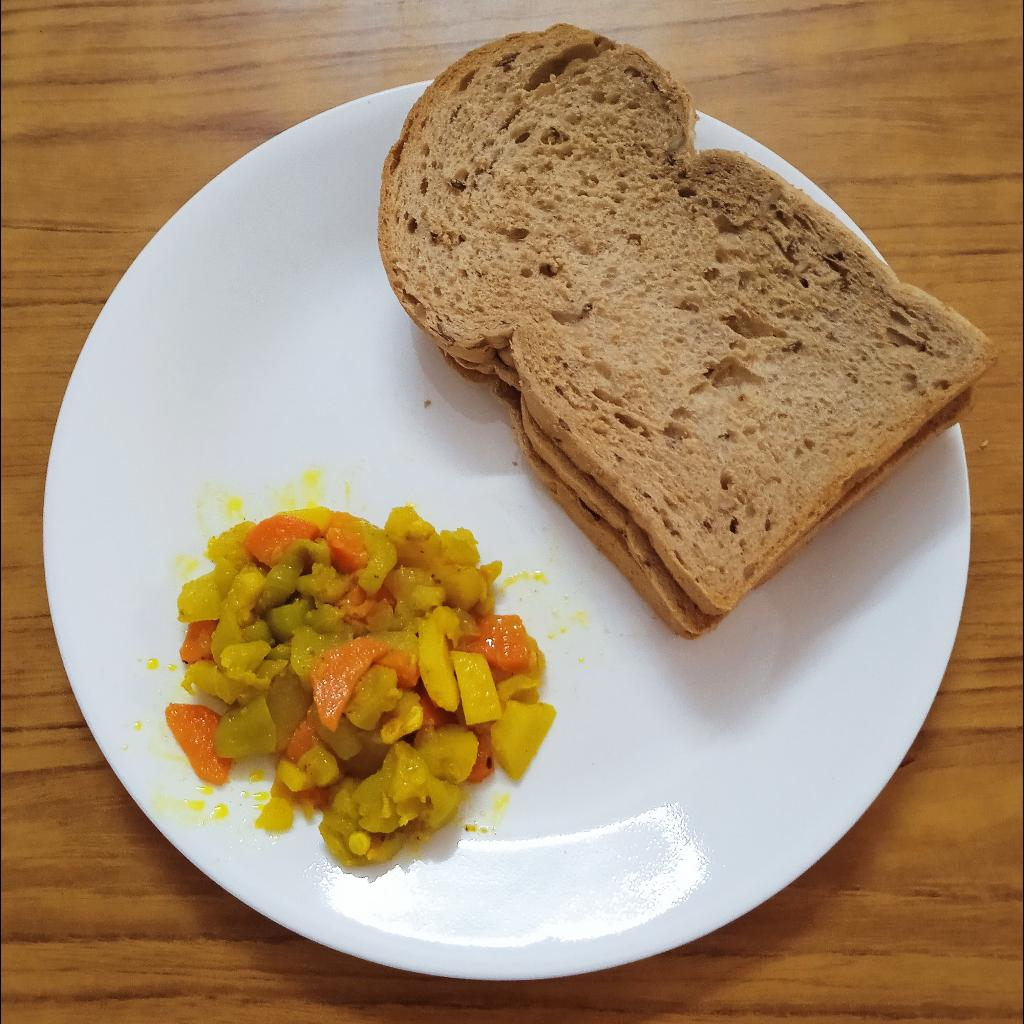bread: (378, 19, 999, 638)
vegetable: (167, 505, 555, 866)
